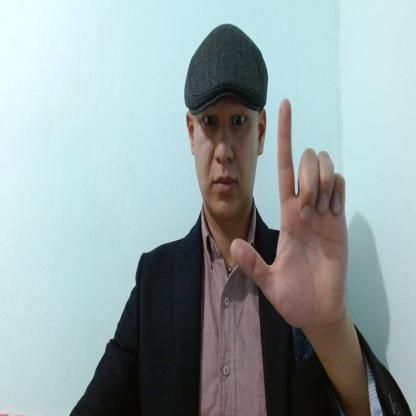L: (230, 99, 348, 331)
